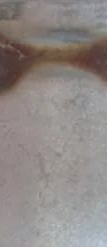Corrosion: (1, 34, 107, 96)
